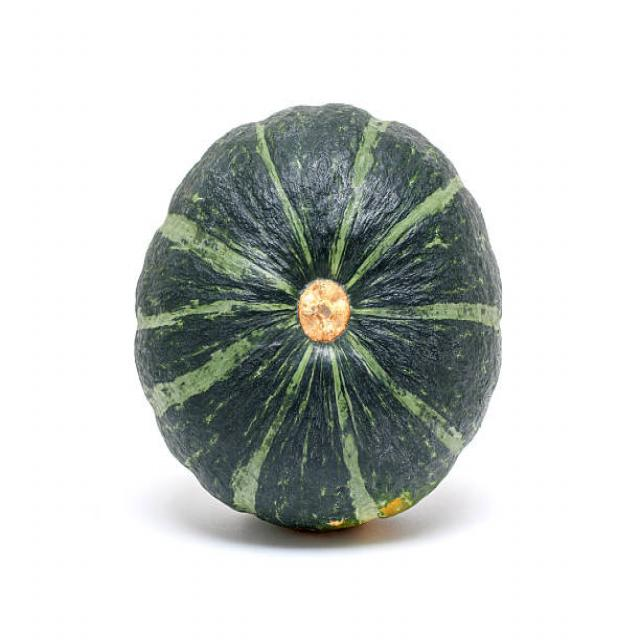Pumpkin: (124, 99, 510, 535)
